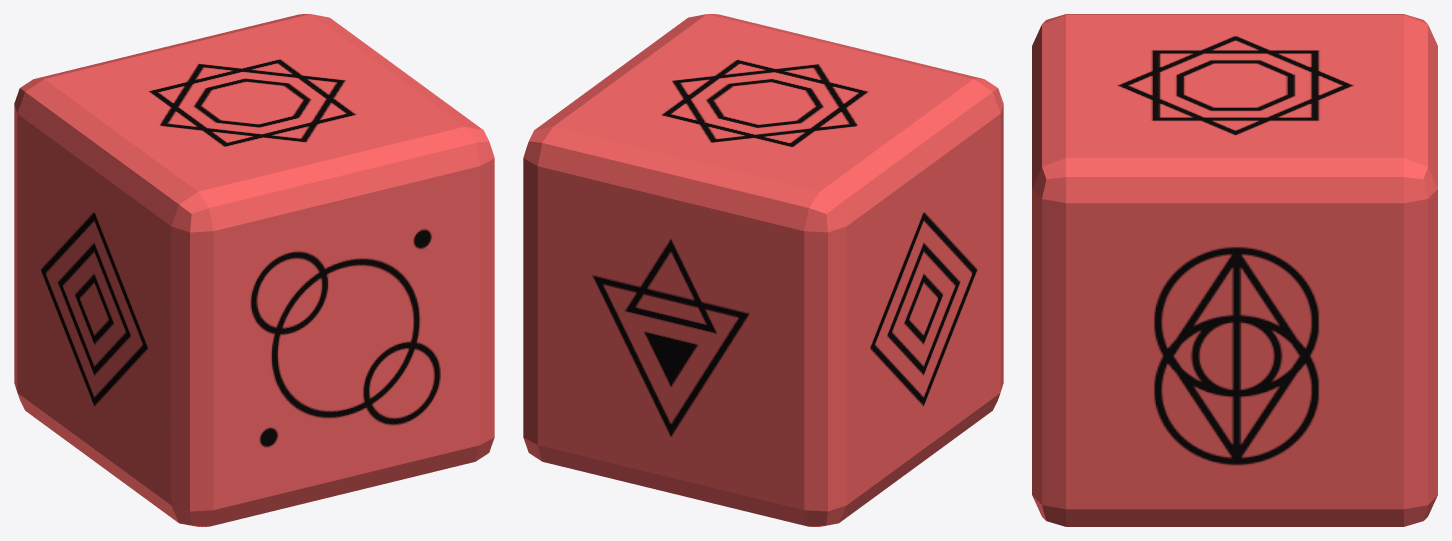
File: Dice.fbx
3 views of the same model, side by side, from view 1: azimuth 30°, elevation 25°; view 2: azimuth 150°, elevation 25°; view 3: azimuth 270°, elevation 25° (orthographic). The views are drawn at different scales.
Parts seen in each view (by area): view 1: Dice09; view 2: Dice09; view 3: Dice09.
Part boxes in pixels (x1,y1,x2,y2): Dice09: (14,14,494,526); Dice09: (523,14,1003,526); Dice09: (1032,14,1437,526).
Size of the model in its own units: 19.44 by 19.44 by 19.44.
Materials: 1 (1 with a texture image).
